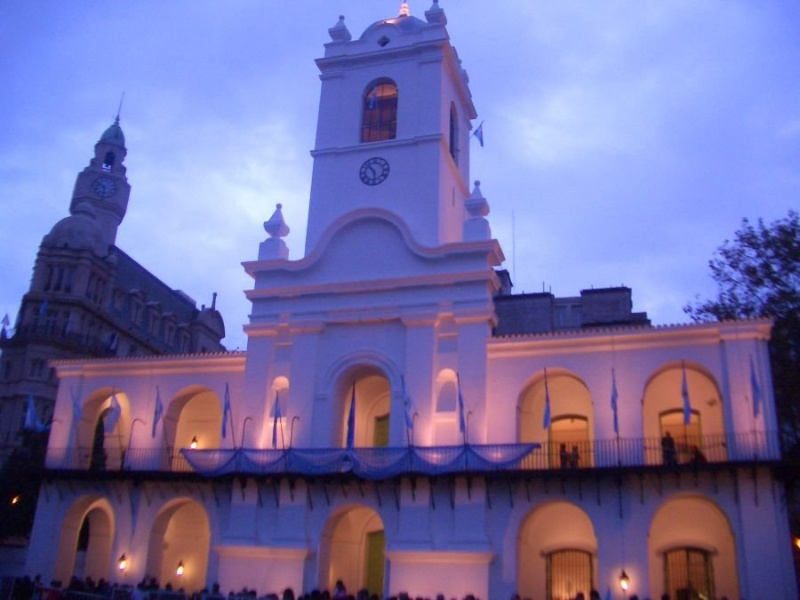cabildo: (25, 1, 800, 597)
